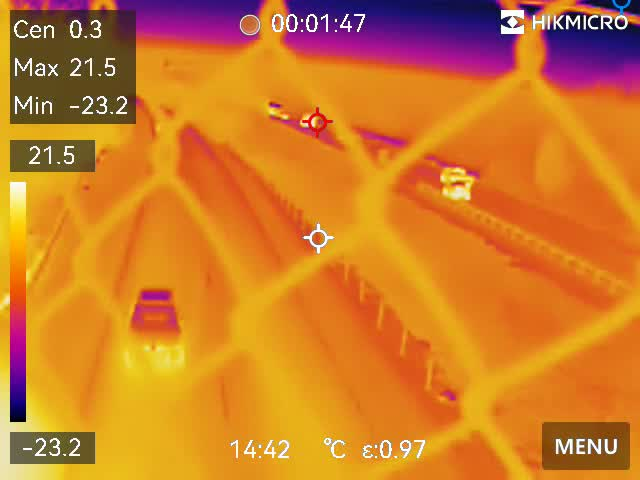vehicle: (122, 283, 188, 370), (434, 166, 478, 185), (299, 112, 329, 134), (433, 183, 471, 200)
